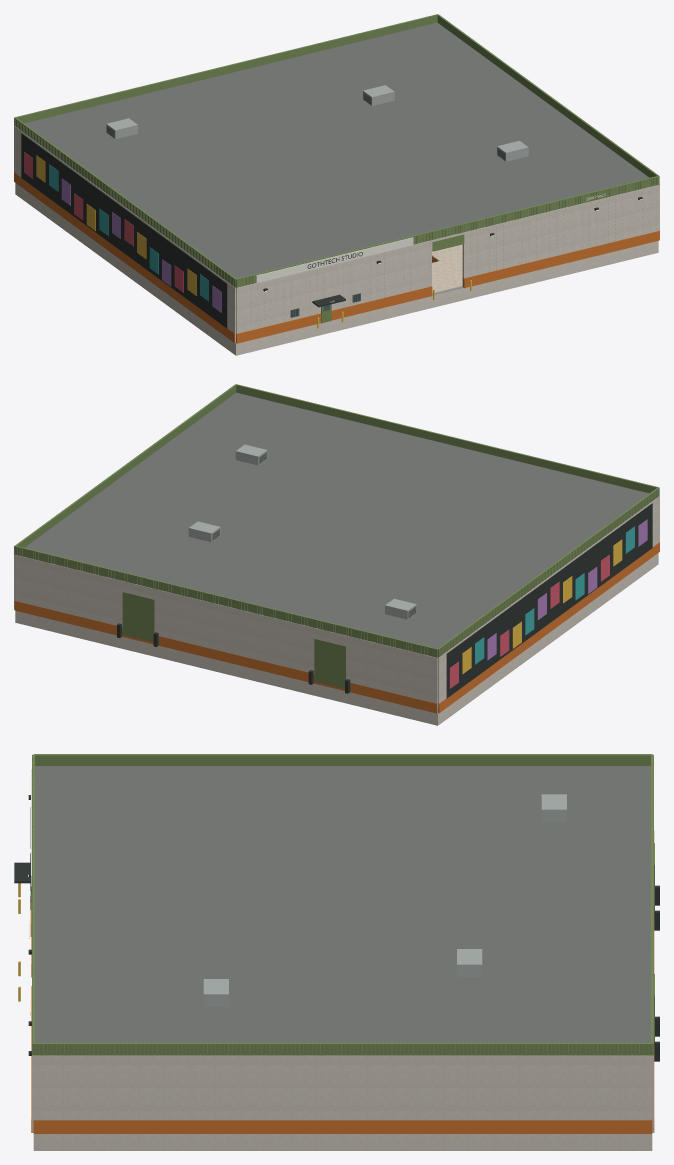
Rendered from mack-gothtech-studio.glb.
The picture shows the model from 3 angles, top to bottom: view 1: azimuth 30°, elevation 25°; view 2: azimuth 150°, elevation 25°; view 3: azimuth 270°, elevation 25°; orthographic projection. The views are drawn at different scales.
Parts seen in each view (by area): view 1: Flat weathered roof, Higgsfield gallery plaster, Olive green corrugated fascia, Black steel, Terracotta orange base, Green seam highlights, Galvanized metal, Ivory lettering, Lobby large format stone, Recessed block joints, Mural 1, Mural 2 (+2 smaller); view 2: Flat weathered roof, Higgsfield gallery plaster, Olive green corrugated fascia, Black steel, Terracotta orange base, Green seam highlights, Galvanized metal, Mural 1, Mural 2, Mural 0, Mural 3; view 3: Flat weathered roof, Higgsfield gallery plaster, Olive green corrugated fascia, Terracotta orange base, Green seam highlights, Galvanized metal, Black steel.
Part boxes in pixels (<box>): Flat weathered roof: <box>24,22,649,278</box>; Higgsfield gallery plaster: <box>14,126,659,355</box>; Olive green corrugated fascia: <box>14,14,659,323</box>; Black steel: <box>21,93,642,328</box>; Terracotta orange base: <box>14,172,659,343</box>; Green seam highlights: <box>14,118,659,287</box>; Galvanized metal: <box>106,85,528,161</box>; Ivory lettering: <box>256,193,606,302</box>; Lobby large format stone: <box>432,244,462,293</box>; Recessed block joints: <box>250,189,656,330</box>; Mural 1: <box>36,155,196,295</box>; Mural 2: <box>49,164,208,301</box>; Flat weathered roof: <box>24,392,649,648</box>; Higgsfield gallery plaster: <box>14,496,659,725</box>; Olive green corrugated fascia: <box>14,384,659,688</box>; Black steel: <box>117,452,652,698</box>; Terracotta orange base: <box>14,542,659,713</box>; Green seam highlights: <box>14,488,659,657</box>; Galvanized metal: <box>188,444,416,619</box>; Mural 1: <box>462,539,622,674</box>; Mural 2: <box>475,526,634,664</box>; Mural 0: <box>449,554,609,688</box>; Mural 3: <box>487,519,647,660</box>; Flat weathered roof: <box>35,766,650,1042</box>; Higgsfield gallery plaster: <box>32,1055,653,1150</box>; Olive green corrugated fascia: <box>30,754,654,1055</box>; Terracotta orange base: <box>31,831,654,1133</box>; Green seam highlights: <box>32,755,653,1055</box>; Galvanized metal: <box>203,794,566,1006</box>; Black steel: <box>14,795,659,1061</box>.
Size of the model in its own units: 48.88 by 8.55 by 45.87.
Materials: 37 (12 with a texture image).
